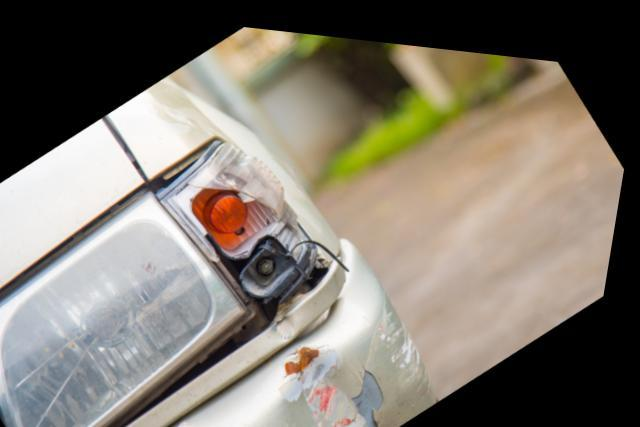dent: (294, 334, 398, 427)
lamp broken: (158, 135, 334, 316)
scratch: (389, 284, 439, 378)
